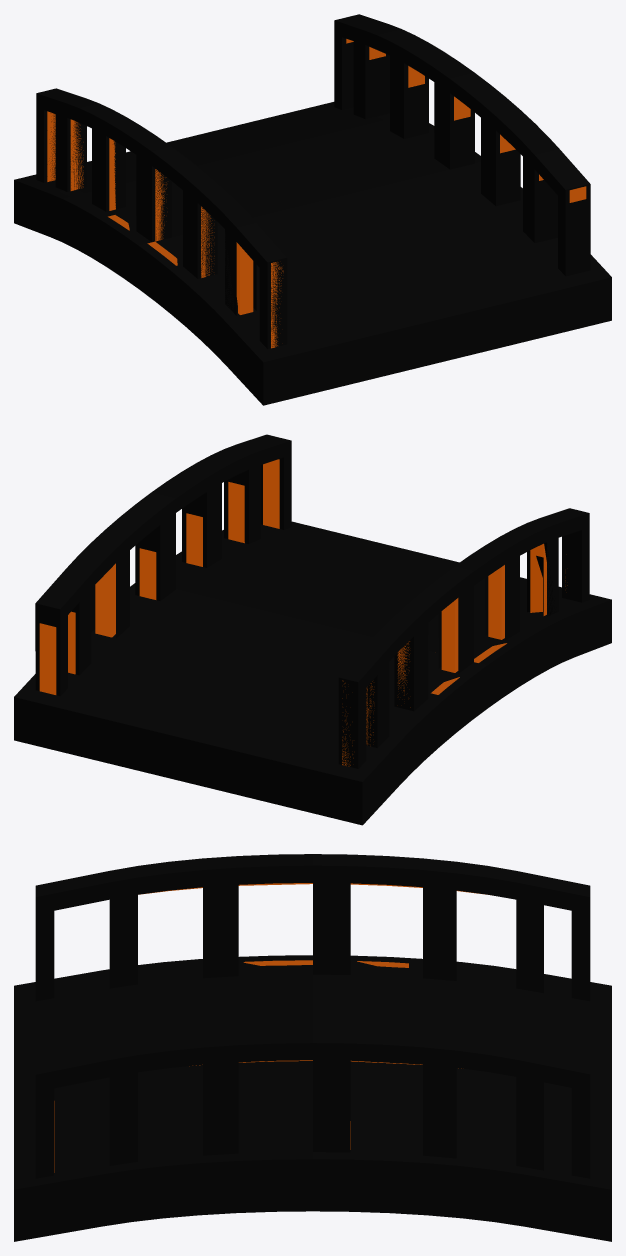
Rendered from Bridge.fbx.
3 views of the same model, one above another, from view 1: azimuth 30°, elevation 25°; view 2: azimuth 150°, elevation 25°; view 3: azimuth 270°, elevation 25° (orthographic). The views are drawn at different scales.
Visible parts, largest first — view 1: BridgePartOutline, BridgeRailOutine3, BridgeRailOutline2, BridgeRail2, BridgeRail; view 2: BridgePartOutline, BridgeRailOutline2, BridgeRailOutine3, BridgeRail, BridgeRail2; view 3: BridgePartOutline, BridgeRailOutine3, BridgeRailOutline2, BridgePart.
Part boxes in pixels (bbox=[...]): BridgePartOutline: bbox=[14, 102, 611, 405]; BridgeRailOutine3: bbox=[334, 14, 590, 276]; BridgeRailOutline2: bbox=[36, 88, 287, 349]; BridgeRail2: bbox=[47, 111, 283, 348]; BridgeRail: bbox=[346, 39, 586, 202]; BridgePartOutline: bbox=[14, 521, 611, 825]; BridgeRailOutline2: bbox=[338, 508, 589, 768]; BridgeRailOutine3: bbox=[35, 434, 291, 696]; BridgeRail: bbox=[39, 459, 279, 694]; BridgeRail2: bbox=[342, 543, 567, 766]; BridgePartOutline: bbox=[14, 955, 611, 1241]; BridgeRailOutine3: bbox=[35, 1028, 590, 1178]; BridgeRailOutline2: bbox=[35, 854, 590, 1001]; BridgePart: bbox=[243, 960, 408, 967].
Bounding box in the file's own units: 8.4 × 10.4 × 3.68.
